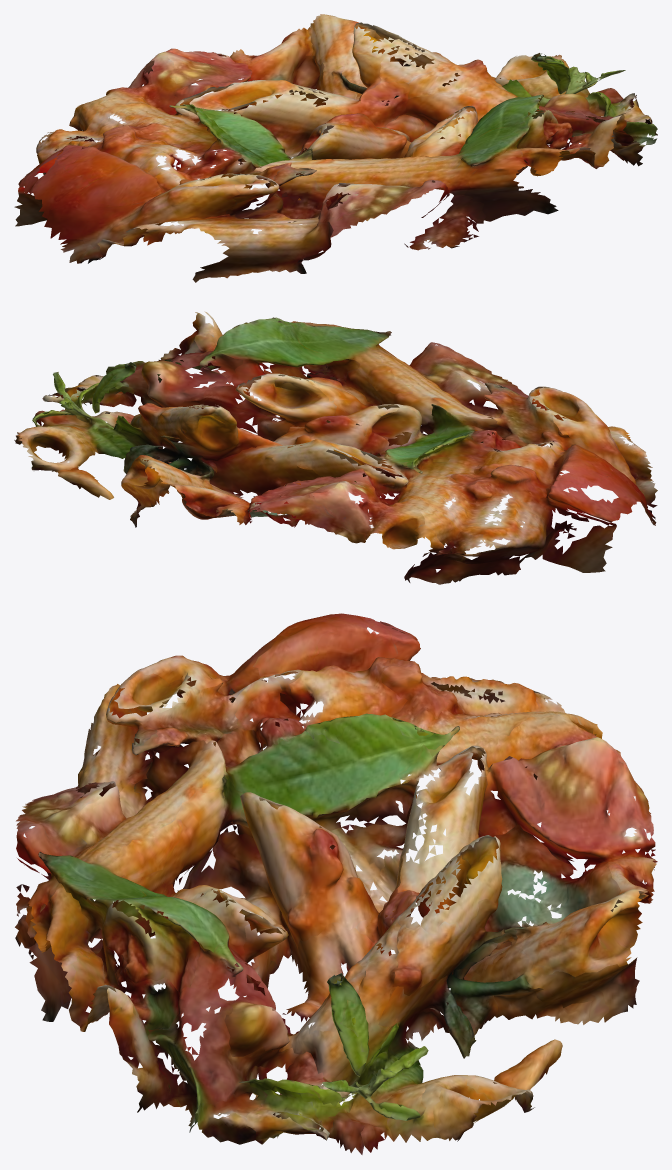
Rendered from pasta-scan.glb.
3 renders of one model, top to bottom at view 1: azimuth 30°, elevation 25°; view 2: azimuth 150°, elevation 25°; view 3: azimuth 270°, elevation 25°, orthographic. The views are drawn at different scales.
Visible parts, largest first — view 1: Scanned cooked pasta filling; view 2: Scanned cooked pasta filling; view 3: Scanned cooked pasta filling.
Boxes of the visible parts, bbox=[...] form: Scanned cooked pasta filling: bbox=[14, 14, 657, 282]; Scanned cooked pasta filling: bbox=[14, 311, 657, 584]; Scanned cooked pasta filling: bbox=[15, 613, 657, 1154].
Bounding box in the file's own units: 0.156 × 0.025 × 0.094.
Materials: 1 (1 with a texture image).
